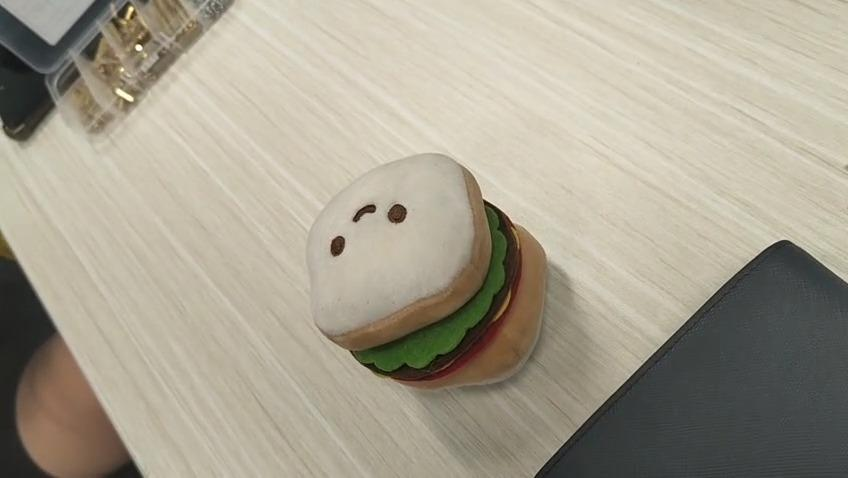objects: (276, 153, 546, 392)
